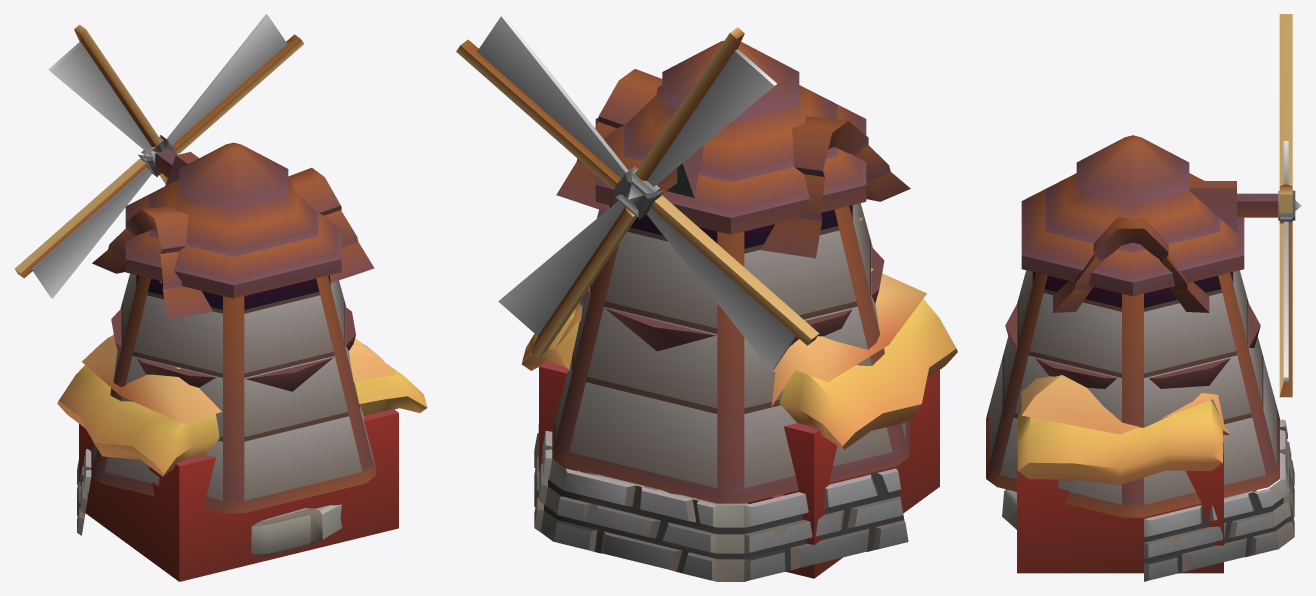
File: End_t4_a2.fbx
3 views of the same model, side by side, from view 1: azimuth 30°, elevation 25°; view 2: azimuth 150°, elevation 25°; view 3: azimuth 270°, elevation 25° (orthographic). The views are drawn at different scales.
Parts seen in each view (by area): view 1: End_t4_a2_lv5, End_t4_a2_lv3, End_t4_a2_lv4, End_t4_a2_lv2; view 2: End_t4_a2_lv5, End_t4_a2_lv3, End_t4_a2_lv4, End_t4_a2_lv2; view 3: End_t4_a2_lv5, End_t4_a2_lv3, End_t4_a2_lv4, End_t4_a2_lv2.
Boxes of the visible parts, x1,y1,x2,y2 form: End_t4_a2_lv5: (15,14,375,535); End_t4_a2_lv3: (57,328,427,581); End_t4_a2_lv4: (92,167,374,557); End_t4_a2_lv2: (111,307,355,391); End_t4_a2_lv5: (456,14,909,581); End_t4_a2_lv3: (521,217,957,578); End_t4_a2_lv4: (556,69,910,505); End_t4_a2_lv2: (582,247,884,351); End_t4_a2_lv5: (986,14,1301,581); End_t4_a2_lv3: (1017,375,1229,573); End_t4_a2_lv4: (1002,217,1256,529); End_t4_a2_lv2: (1005,303,1260,388).
Size of the model in its own units: 4.3 by 6.21 by 3.82.
